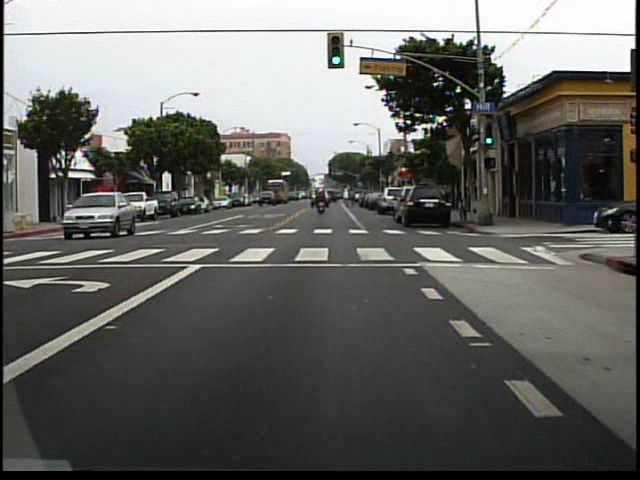person: (316, 187, 329, 215)
